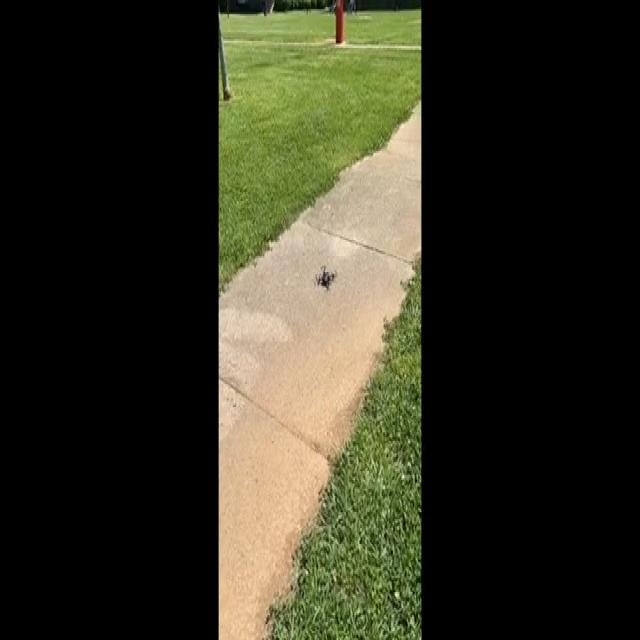drone: (312, 255, 340, 301)
